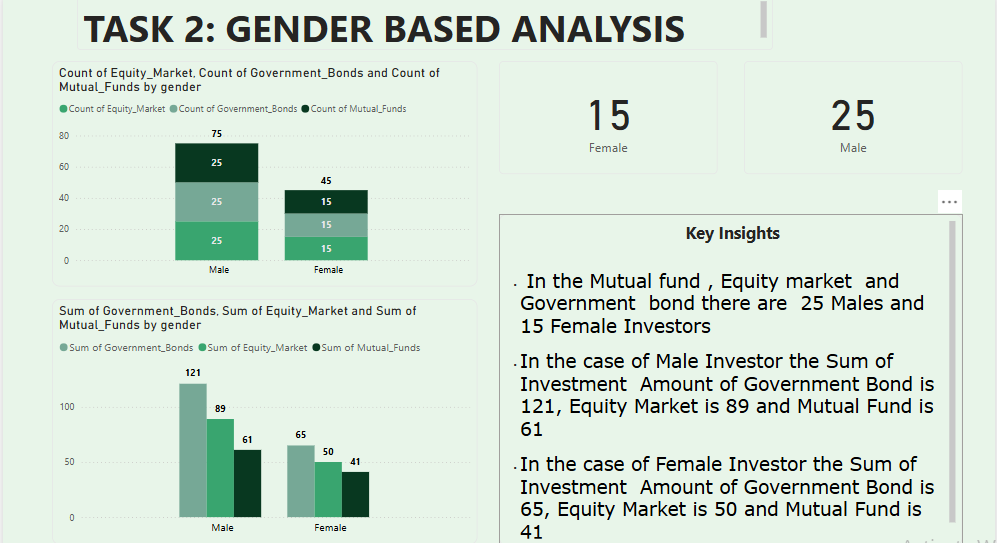

The dashboard page shown, as its layout file describes it:
{"tool":"powerbi","page":{"name":"Task2","canvas":[1280,720],"ordinal":1},"visuals":[{"type":"textbox","box":[95.6,0,897.6,71.3],"z":0},{"type":"columnChart","fields":{"Category":["Data_set 2.gender"],"Y":["CountNonNull(Data_set 2.Equity_Market)","CountNonNull(Data_set 2.Government_Bonds)","CountNonNull(Data_set 2.Mutual_Funds)"]},"box":[62.8,85.6,549.4,291.1],"z":1000},{"type":"clusteredColumnChart","fields":{"Category":["Data_set 2.gender"],"Y":["Sum(Data_set 2.Government_Bonds)","Sum(Data_set 2.Equity_Market)","Sum(Data_set 2.Mutual_Funds)"]},"box":[62.8,392.4,549.4,316.8],"z":2000},{"type":"card","fields":{"Values":["Data_set 2.Female"]},"box":[640.6,85,282,146],"z":3000},{"type":"card","fields":{"Values":["Data_set 2.Male"]},"box":[956.7,85,282,146],"z":4000},{"type":"textbox","box":[640.6,282,598.1,428],"z":5000}]}

Visuals, with their boxes on the page's 1280x720 design canvas (x1, y1, x2, y2). These are canvas units, not pixel positions in the 997x543 screenshot, which may show the page scaled, cropped or inside an application window:
textbox: (96,0,993,71)
columnChart - Data_set 2.gender x CountNonNull(Data_set 2.Equity_Market): (63,86,612,377)
clusteredColumnChart - Data_set 2.gender x Sum(Data_set 2.Government_Bonds): (63,392,612,709)
card - Data_set 2.Female: (641,85,923,231)
card - Data_set 2.Male: (957,85,1239,231)
textbox: (641,282,1239,710)
